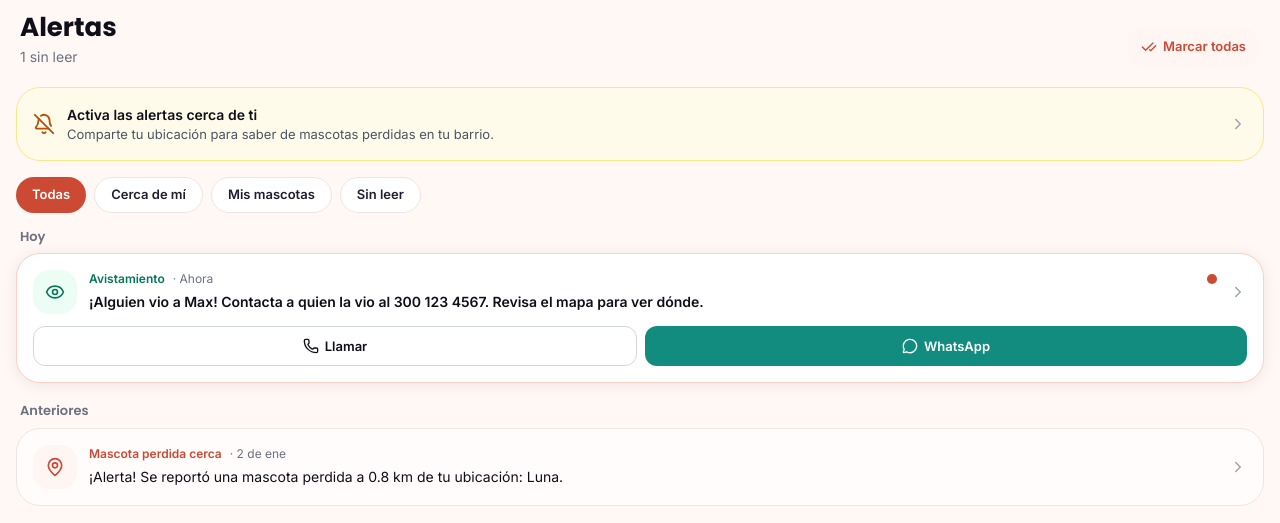
Test case: Alertas › La pestaña "Cerca de mí" muestra solo alertas de proximidad
The image size is (1280, 523).
Expected: the list item with test id "notif-item-1" is shown, [16,253,1264,383]
Click the tab "Cerca de mí": {"x": 149, "y": 195} [94,177,203,213]
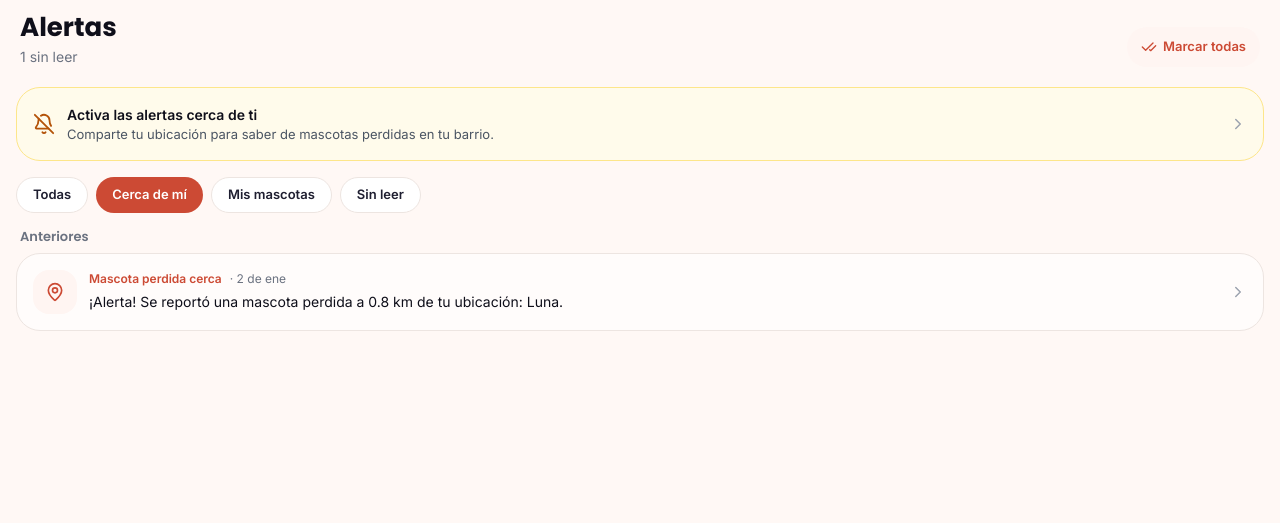
Expected: the list item with test id "notif-item-2" is shown, [16,253,1264,331]
Result: the list item with test id "notif-item-1" is gone
